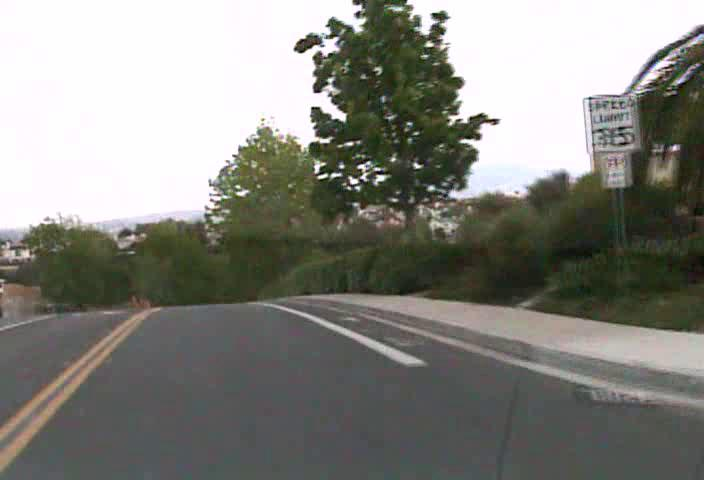speedLimit35: (582, 93, 642, 153)
